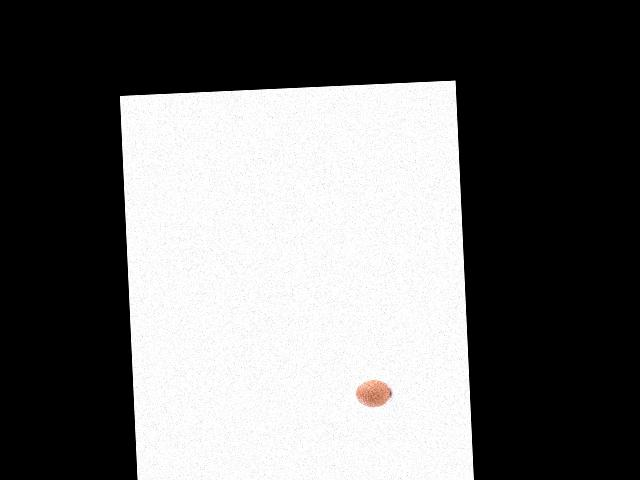egg: (355, 379, 391, 409)
